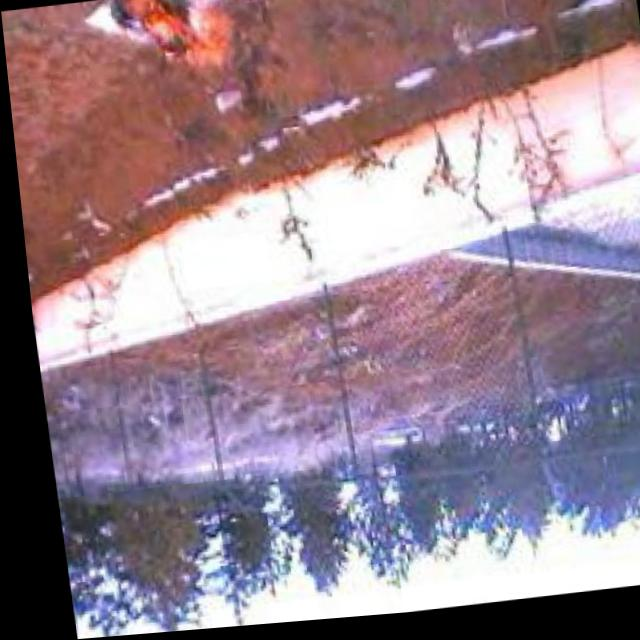Fire: (105, 0, 258, 86)
